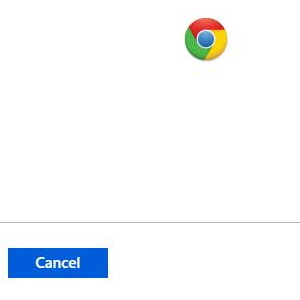chrome: (184, 17, 228, 62)
